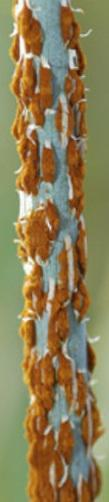Sugarcane: (15, 5, 97, 498)
